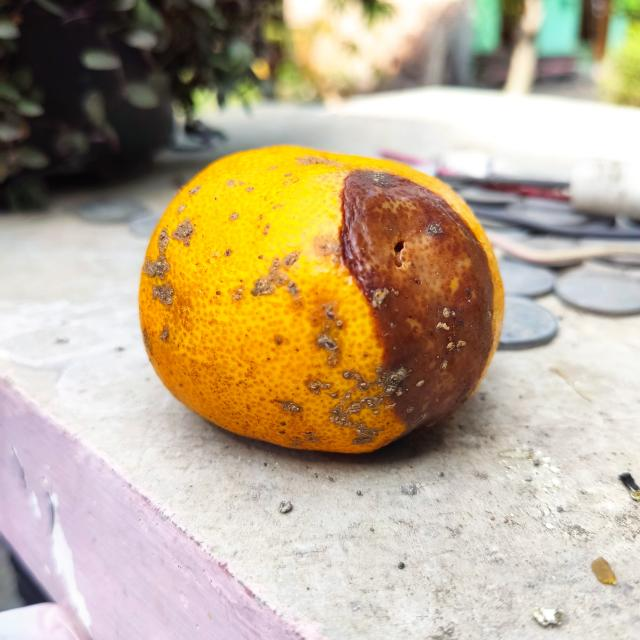orange: (136, 142, 506, 457)
